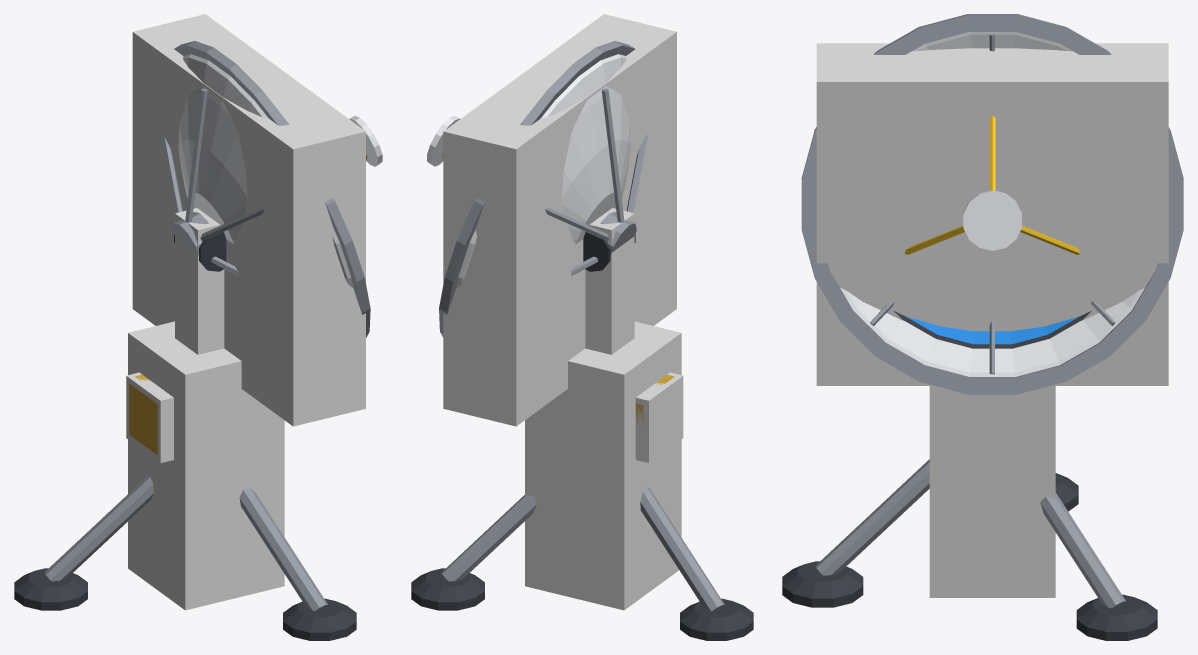
Rendered from Antenna.glb.
The picture shows the model from 3 angles, left to right: view 1: azimuth 30°, elevation 25°; view 2: azimuth 150°, elevation 25°; view 3: azimuth 270°, elevation 25°; orthographic projection. The views are drawn at different scales.
Parts seen in each view (by area): view 1: COL_Dish, COL_Base, Antenna_Grey, Antenna_White, Antenna_Dark, COL_Mast, COL_Pack, Antenna_Gold; view 2: COL_Dish, COL_Base, Antenna_Grey, Antenna_White, Antenna_Dark, COL_Mast, COL_Pack; view 3: COL_Dish, COL_Base, Antenna_Grey, Antenna_White, Antenna_Dark, Antenna_Sky, Antenna_Yellow.
Boxes of the visible parts, x1,y1,x2,y2 form: COL_Dish: (132,14,365,426); COL_Base: (128,321,284,610); Antenna_Grey: (44,41,370,611); Antenna_White: (178,54,382,287); Antenna_Dark: (14,232,356,640); COL_Mast: (175,208,224,354); COL_Pack: (126,372,173,463); Antenna_Gold: (129,152,367,455); COL_Dish: (443,14,676,426); COL_Base: (525,321,681,610); Antenna_Grey: (439,41,724,611); Antenna_White: (427,54,630,287); Antenna_Dark: (411,232,753,640); COL_Mast: (585,208,634,354); COL_Pack: (635,372,683,462); COL_Dish: (816,43,1168,385); COL_Base: (929,386,1055,597); Antenna_Grey: (801,14,1183,608); Antenna_White: (840,32,1145,376); Antenna_Dark: (782,311,1157,640); Antenna_Sky: (906,316,1079,344); Antenna_Yellow: (904,116,1080,254).
Bounding box in the file's own units: 5.05 × 7.46 × 4.79.
